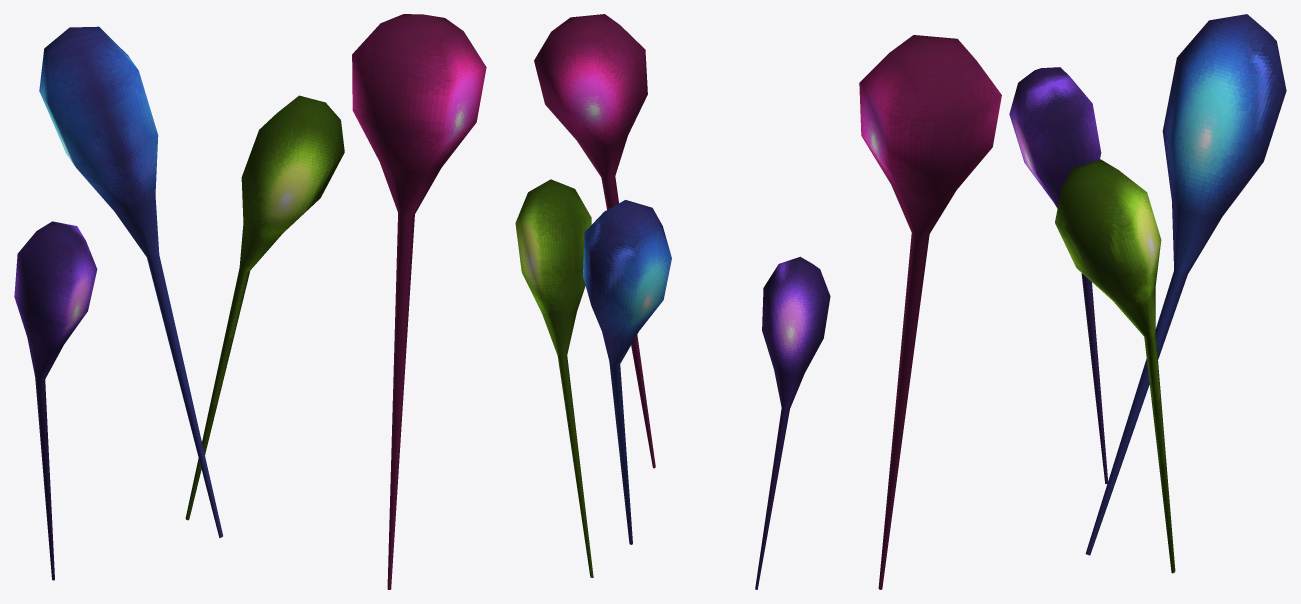
The model's file is t2_m_ara_dpl_plantBulbsSmall.fbx.
3 renders of one model, left to right at view 1: azimuth 30°, elevation 25°; view 2: azimuth 150°, elevation 25°; view 3: azimuth 270°, elevation 25°, orthographic. The views are drawn at different scales.
Parts seen in each view (by area): view 1: t2_m_ara_dpl_plantBulbsSmall; view 2: t2_m_ara_dpl_plantBulbsSmall; view 3: t2_m_ara_dpl_plantBulbsSmall.
Part boxes in pixels (box(x1,y1,x2,y2)): t2_m_ara_dpl_plantBulbsSmall: box(14, 14, 486, 589); t2_m_ara_dpl_plantBulbsSmall: box(515, 14, 830, 589); t2_m_ara_dpl_plantBulbsSmall: box(859, 14, 1286, 589).
Size of the model in its own units: 0.7237 by 0.9899 by 0.6482.
